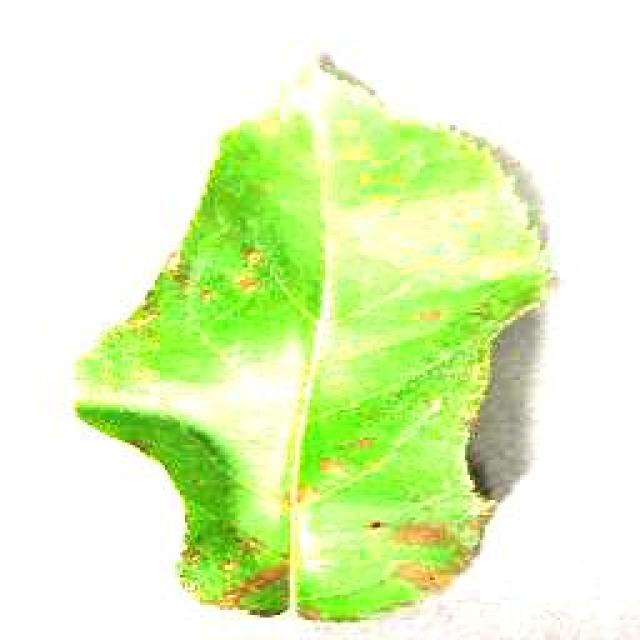apple cedar apple rust: (70, 50, 558, 622)
